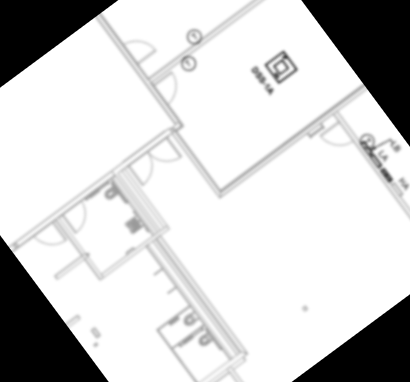door: (317, 118, 357, 158), (121, 28, 159, 67), (32, 219, 70, 257), (151, 68, 188, 106), (60, 198, 98, 235)
double door: (126, 134, 186, 190)
